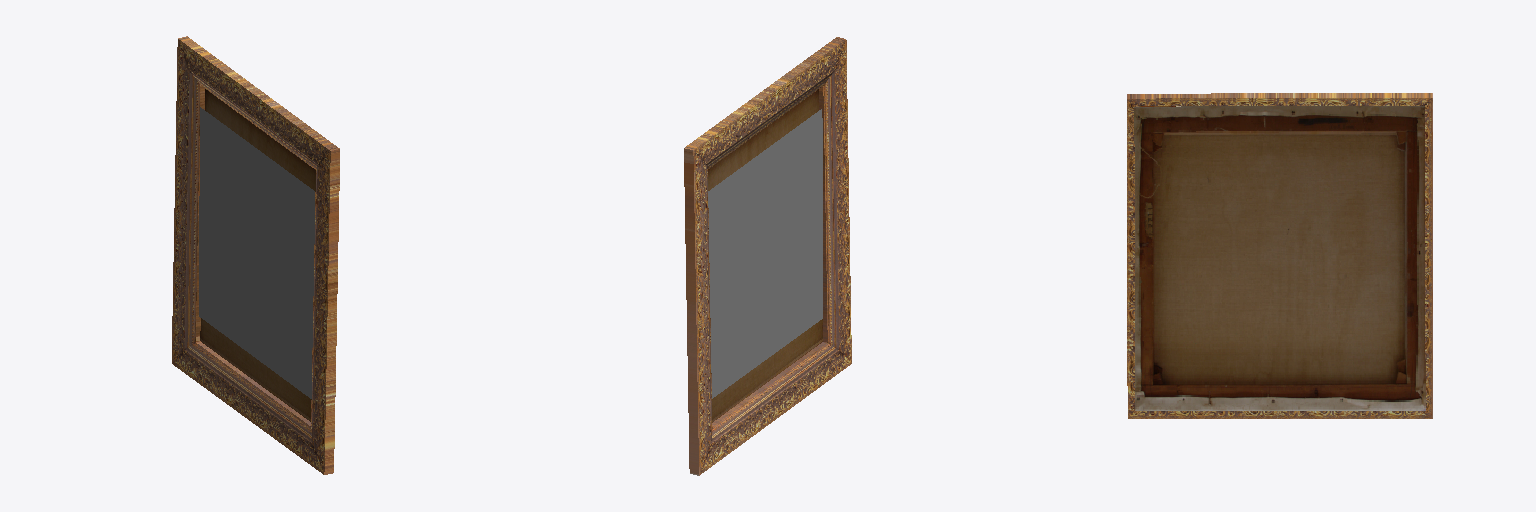
3 views of the same model, side by side, from view 1: azimuth 30°, elevation 25°; view 2: azimuth 150°, elevation 25°; view 3: azimuth 270°, elevation 25° (orthographic).
Parts seen in each view (by area): view 1: Frame, Canvas, Back; view 2: Frame, Canvas, Back; view 3: Back, Frame.
Boxes of the visible parts, x1,y1,x2,y2 form: Frame: [172, 36, 339, 474]; Canvas: [199, 107, 314, 398]; Back: [200, 89, 315, 421]; Frame: [684, 37, 851, 475]; Canvas: [708, 109, 822, 398]; Back: [708, 89, 822, 422]; Back: [1134, 106, 1425, 410]; Frame: [1127, 93, 1432, 418].
Size of the model in its own units: 3.19 by 63.51 by 54.4.
Materials: 2 (1 with a texture image).